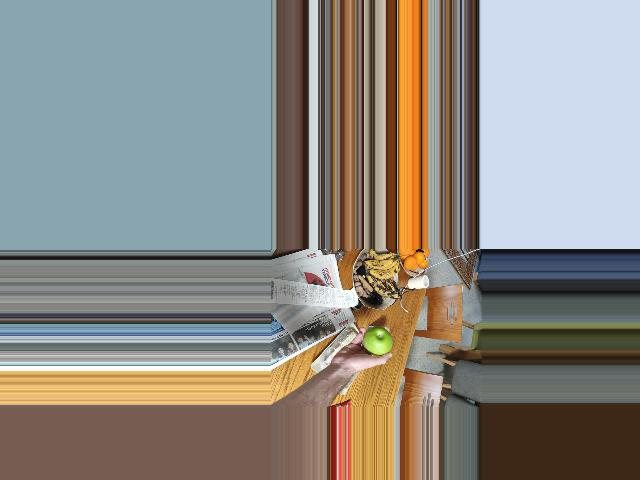apple: (361, 328, 393, 355)
